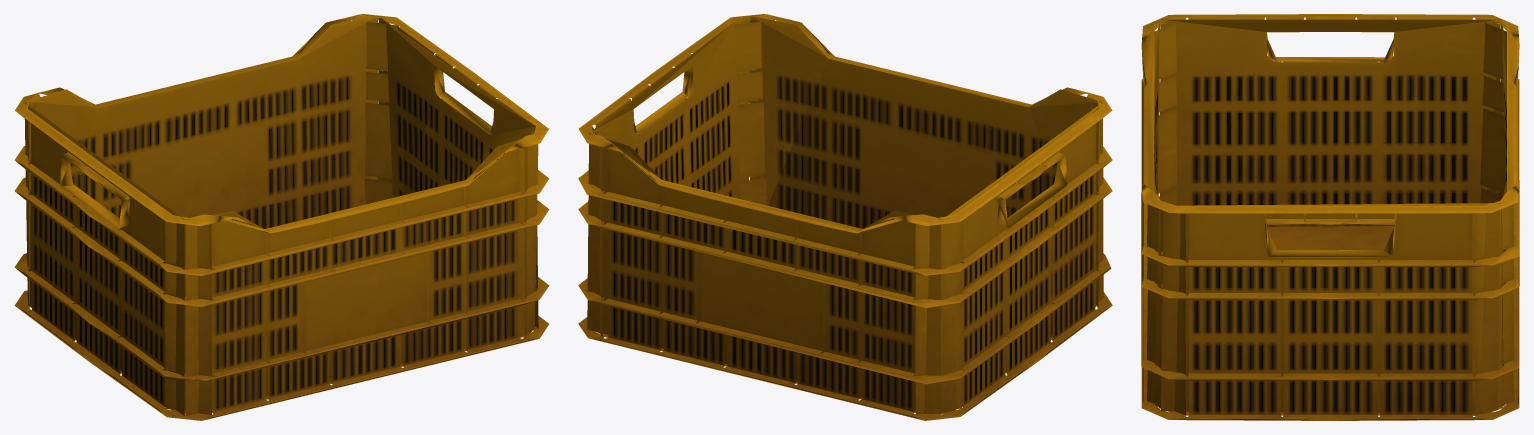
File: plastic_crate_02_1k.gltf
3 renders of one model, left to right at view 1: azimuth 30°, elevation 25°; view 2: azimuth 150°, elevation 25°; view 3: azimuth 270°, elevation 25°, orthographic. The views are drawn at different scales.
Parts seen in each view (by area): view 1: plastic_crate_02_LOD0; view 2: plastic_crate_02_LOD0; view 3: plastic_crate_02_LOD0.
Boxes of the visible parts, x1=… form: plastic_crate_02_LOD0: x1=14, y1=14, x2=549, y2=420; plastic_crate_02_LOD0: x1=578, y1=14, x2=1112, y2=420; plastic_crate_02_LOD0: x1=1141, y1=14, x2=1519, y2=420.
Size of what is drawn, in the model's own units: 0.5055 by 0.2543 by 0.4052.
Materials: 1 (1 with a texture image).
